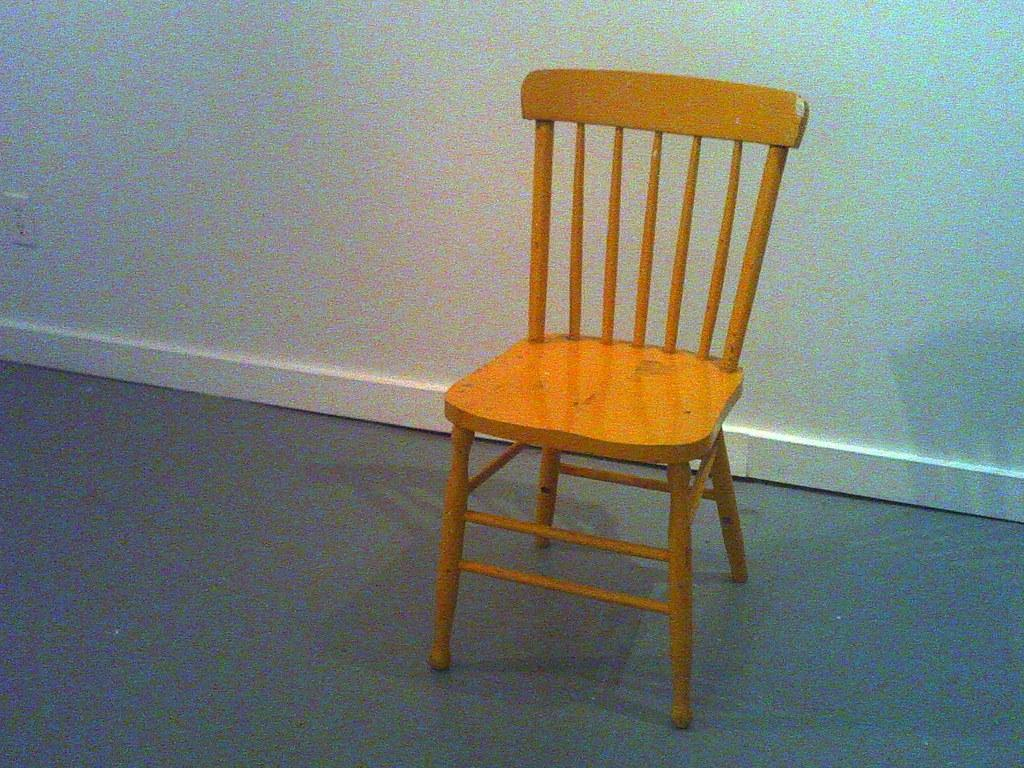chair: (428, 67, 810, 730)
